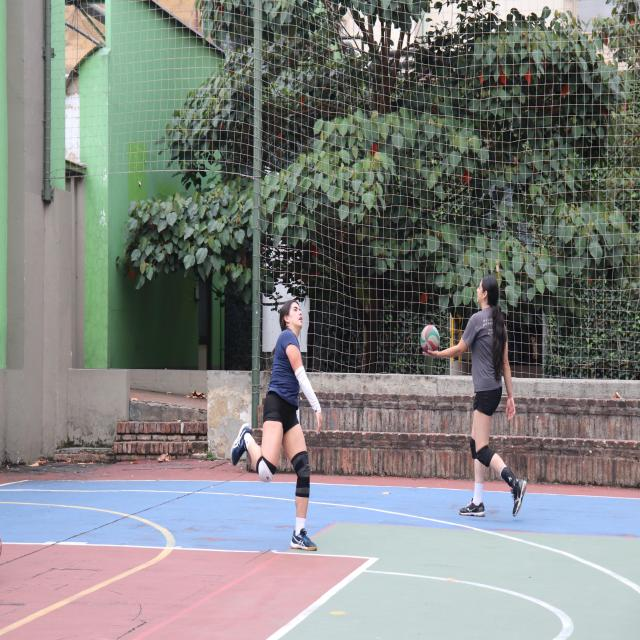volleyball: (420, 325, 440, 352)
